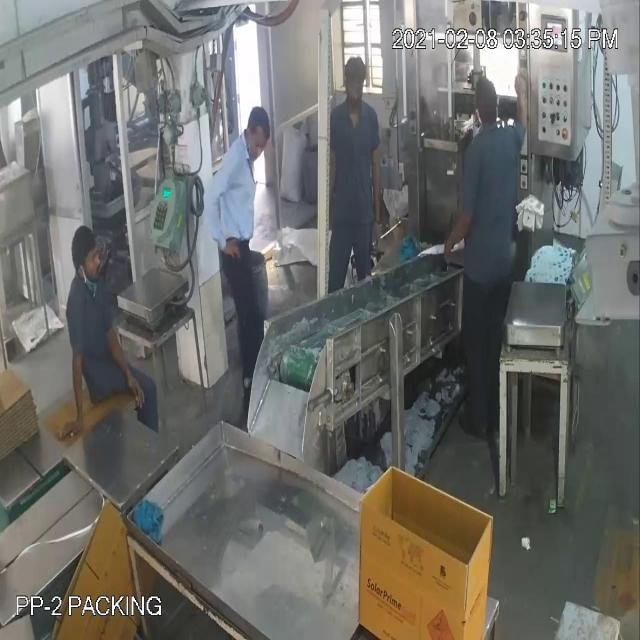No_Gloves: (24, 68, 523, 400)
